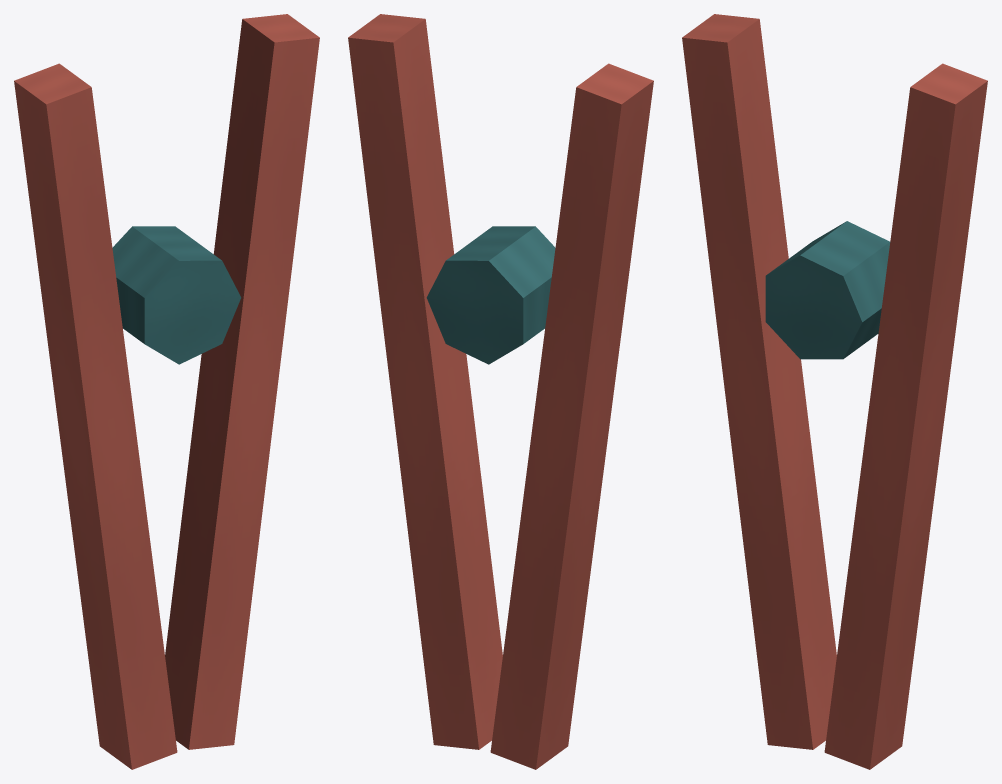
Rendered from atlas100-s034-a05.lod1.glb.
The picture shows the model from 3 angles, left to right: view 1: azimuth 30°, elevation 25°; view 2: azimuth 150°, elevation 25°; view 3: azimuth 330°, elevation 25°; orthographic projection.
Parts seen in each view (by area): view 1: atlas100-s034-a05:part-001, atlas100-s034-a05:part-000, atlas100-s034-a05:part-002; view 2: atlas100-s034-a05:part-001, atlas100-s034-a05:part-000, atlas100-s034-a05:part-002; view 3: atlas100-s034-a05:part-000, atlas100-s034-a05:part-001, atlas100-s034-a05:part-002.
Boxes of the visible parts, x1=… form: atlas100-s034-a05:part-001: x1=165, y1=14, x2=319, y2=749; atlas100-s034-a05:part-000: x1=14, y1=63, x2=177, y2=769; atlas100-s034-a05:part-002: x1=112, y1=226, x2=241, y2=364; atlas100-s034-a05:part-001: x1=348, y1=14, x2=502, y2=749; atlas100-s034-a05:part-000: x1=490, y1=63, x2=653, y2=769; atlas100-s034-a05:part-002: x1=426, y1=226, x2=555, y2=364; atlas100-s034-a05:part-000: x1=682, y1=14, x2=836, y2=749; atlas100-s034-a05:part-001: x1=824, y1=63, x2=987, y2=769; atlas100-s034-a05:part-002: x1=765, y1=221, x2=890, y2=359.
Bounding box in the file's own units: 0.2936 × 0.7102 × 0.0874.
Materials: 2 (2 with a texture image).
